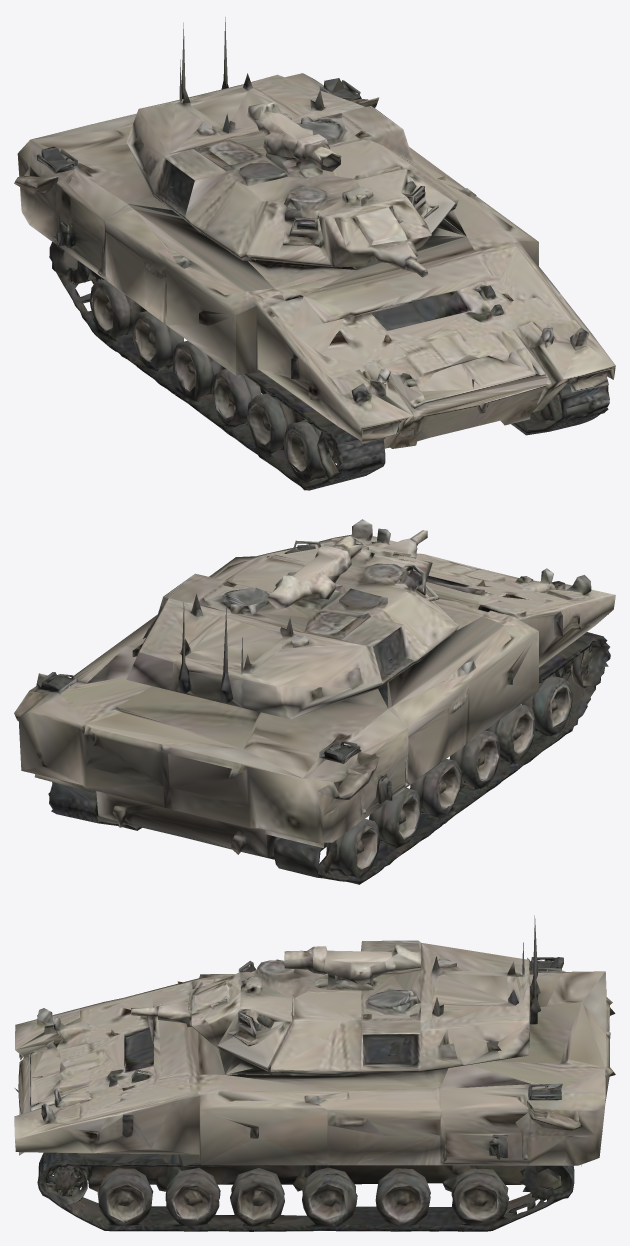
The model's file is t243_apc_lod0m.glb.
3 renders of one model, top to bottom at view 1: azimuth 30°, elevation 25°; view 2: azimuth 150°, elevation 25°; view 3: azimuth 270°, elevation 25°, orthographic. The views are drawn at different scales.
Size of the model in its own units: 3.12 by 2.38 by 5.2.
1 material, 1 textured.
